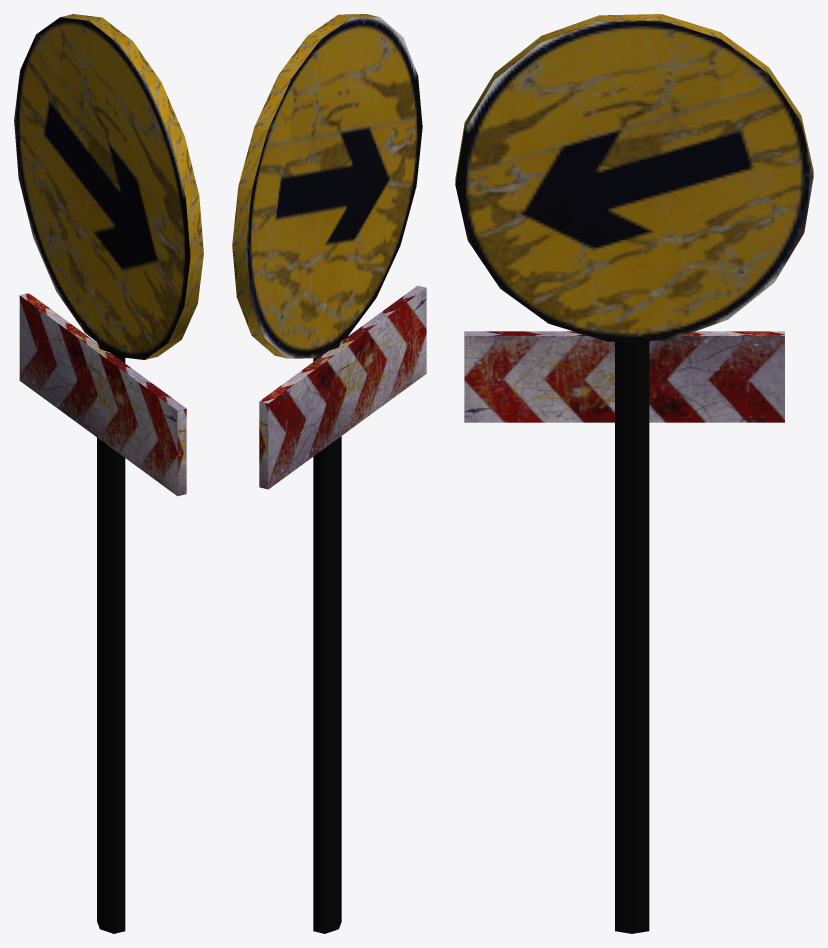
Rendered from traffic sign6.FBX.
3 renders of one model, left to right at view 1: azimuth 30°, elevation 25°; view 2: azimuth 150°, elevation 25°; view 3: azimuth 270°, elevation 25°, orthographic.
Parts seen in each view (by area): view 1: Cylinder002; view 2: Cylinder002; view 3: Cylinder002.
Part boxes in pixels (x1,y1,x2,y2): Cylinder002: (14, 14, 203, 933); Cylinder002: (232, 14, 426, 933); Cylinder002: (455, 14, 813, 933).
Bounding box in the file's own units: 0.6075 × 18.8 × 6.7.
